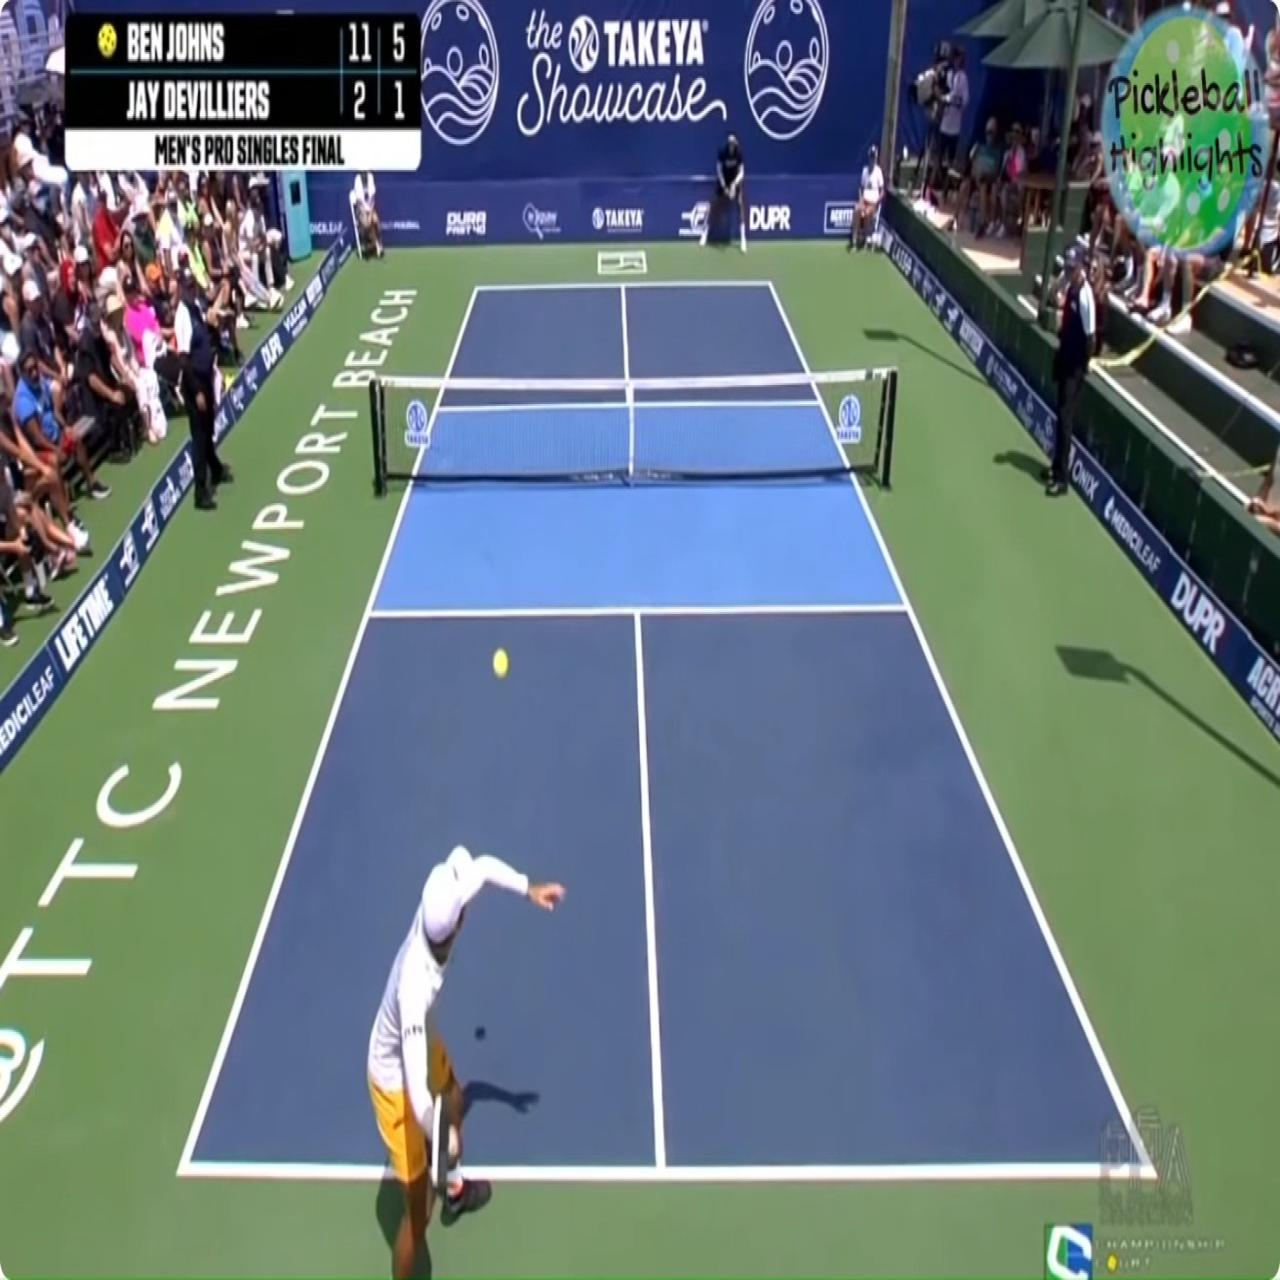pickleball: (492, 647, 509, 676)
